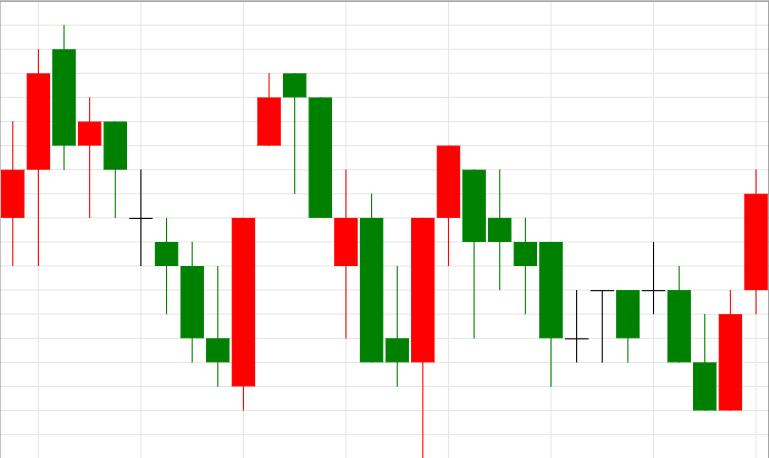bullish_engulfing_rise: (52, 25, 255, 411), (462, 169, 742, 411), (283, 73, 434, 458)
